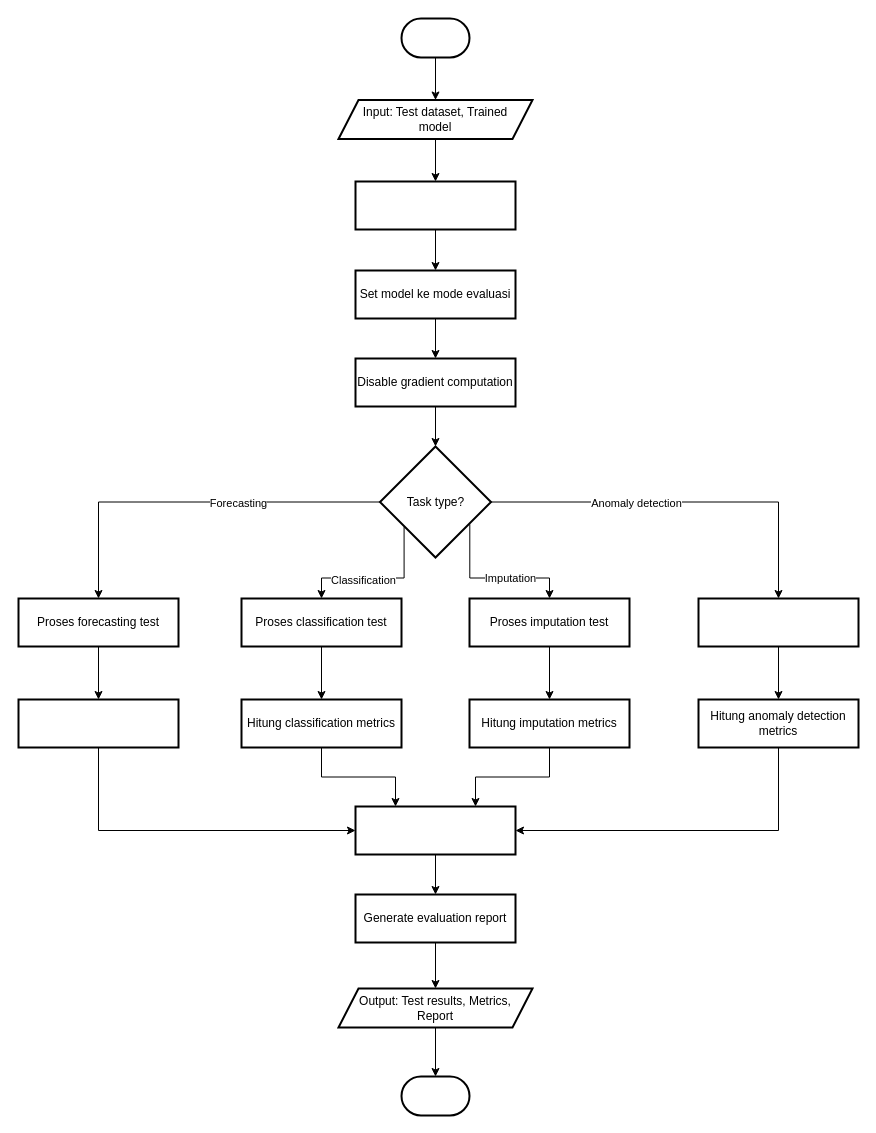
Some shapes in this 876 by 1133 pixel diagram are drawn without their labels. Each missing label, with the centre of its shape:
"Analisis hasil dan perbandingan" goes at point (435, 830).
"Hitung forecasting metrics" goes at point (98, 723).
"Load model checkpoint" goes at point (435, 205).
"Mulai" goes at point (435, 37).
"Proses anomaly detection test" goes at point (778, 622).
"Selesai" goes at point (435, 1095).
